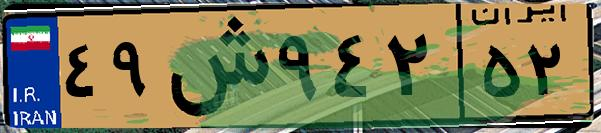2: (385, 28, 445, 110), (525, 38, 570, 115)
4: (330, 28, 385, 110), (57, 26, 110, 100)
5: (475, 38, 525, 113)
9: (270, 28, 330, 110), (110, 28, 158, 98)
ش: (158, 12, 270, 120)
